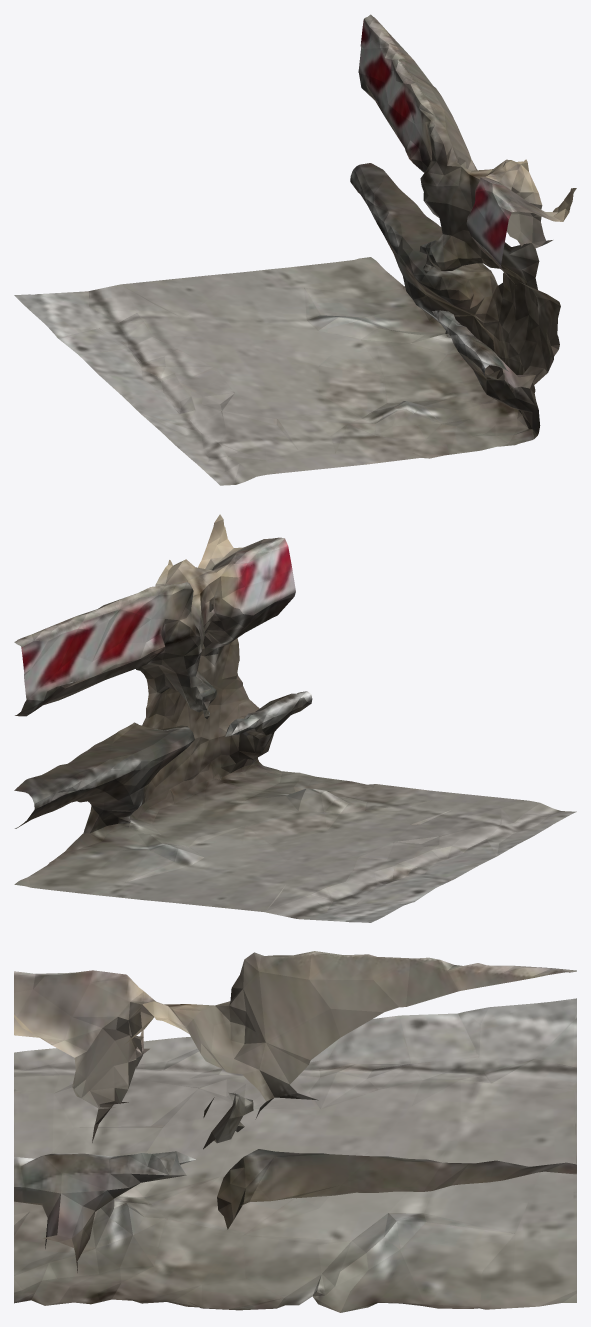
3 renders of one model, top to bottom at view 1: azimuth 30°, elevation 25°; view 2: azimuth 150°, elevation 25°; view 3: azimuth 270°, elevation 25°, orthographic. The views are drawn at different scales.
Bounding box in the file's own units: 1.67 × 1.19 × 1.67.
4 materials, 4 textured.
